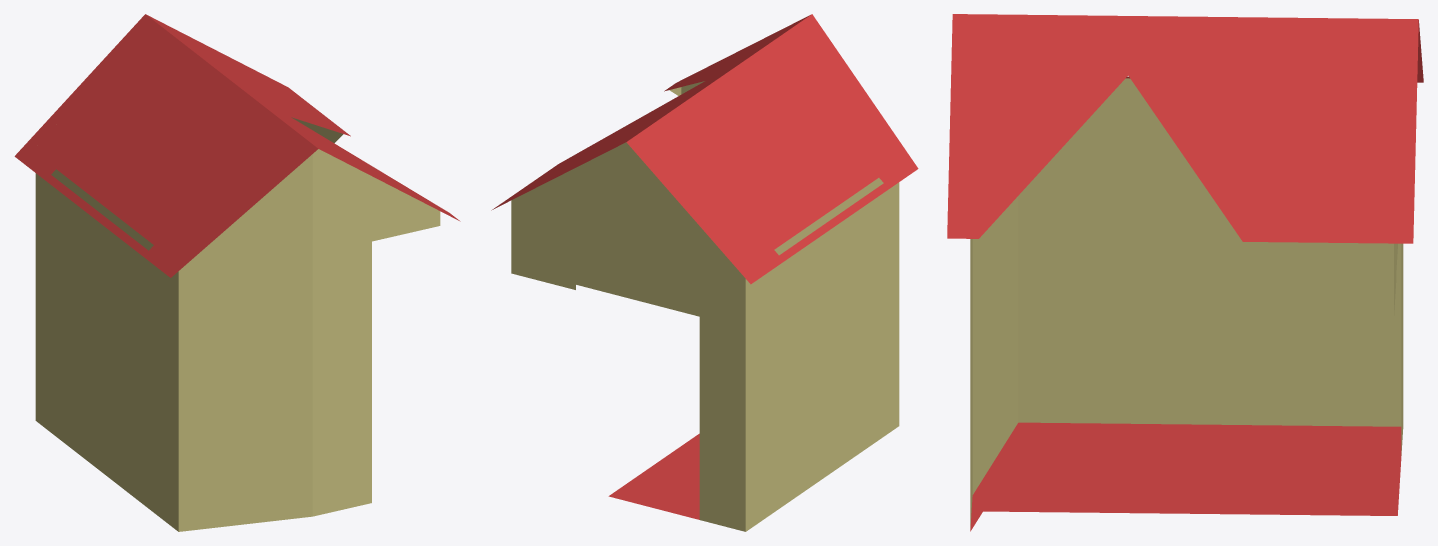
The picture shows the model from 3 angles, left to right: view 1: azimuth 30°, elevation 25°; view 2: azimuth 150°, elevation 25°; view 3: azimuth 270°, elevation 25°; orthographic projection. The views are drawn at different scales.
Size of the model in its own units: 10.29 by 11.92 by 13.26.
